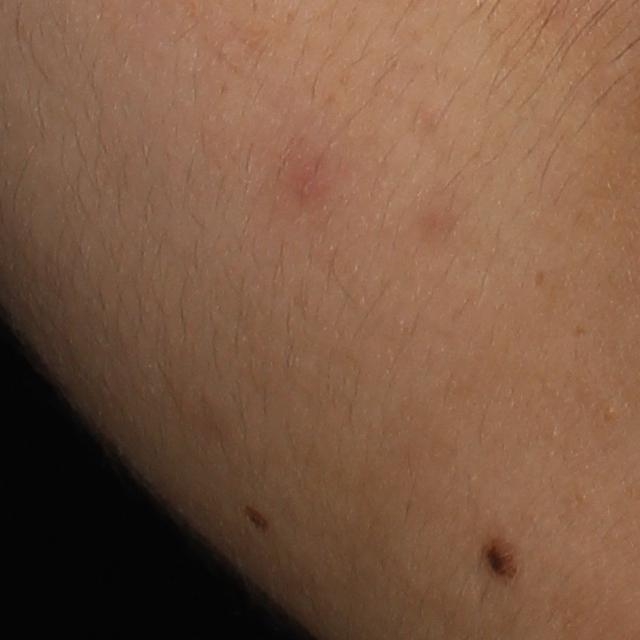nevus: (483, 539, 516, 584), (246, 500, 275, 531)
